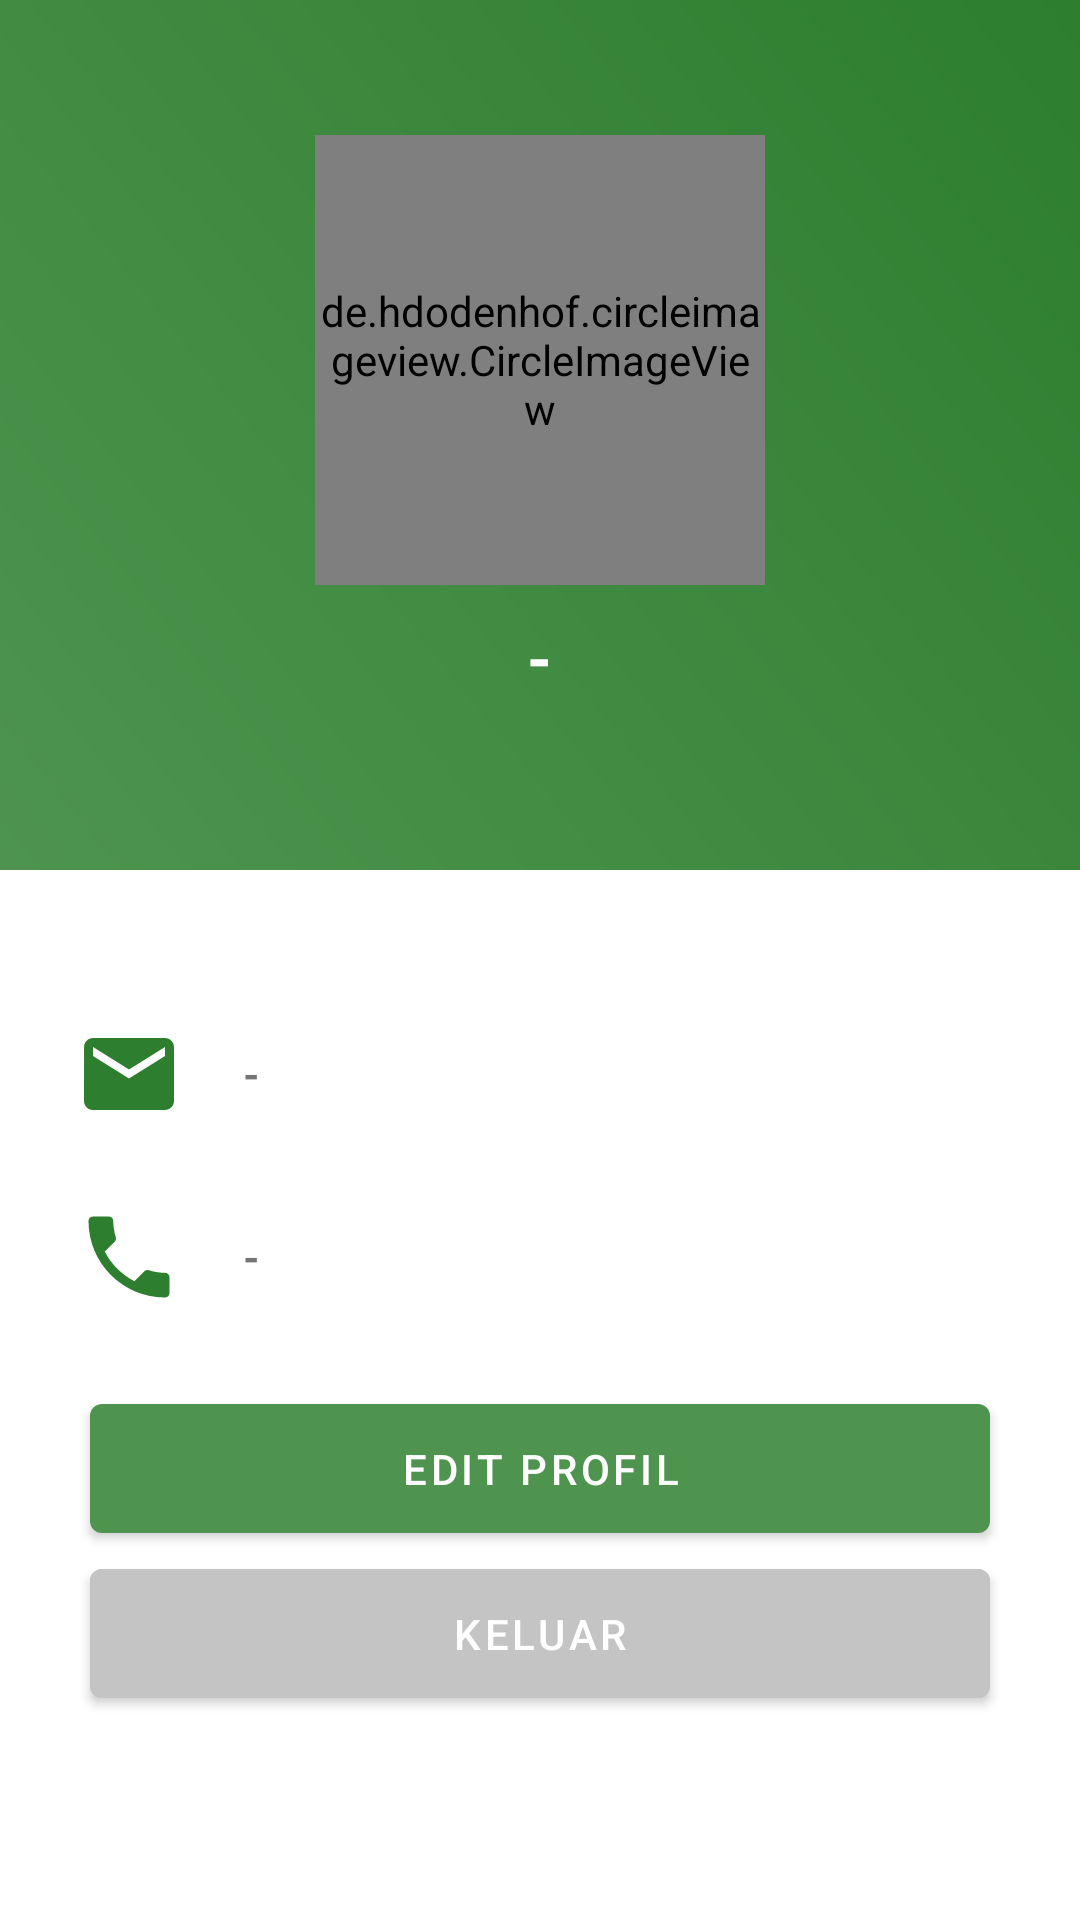

Where icons sit on this 1080px×1920px app screen, as (x1, y1, x2, y2):
email: (84, 1038, 174, 1110)
phone: (88, 1216, 170, 1298)
